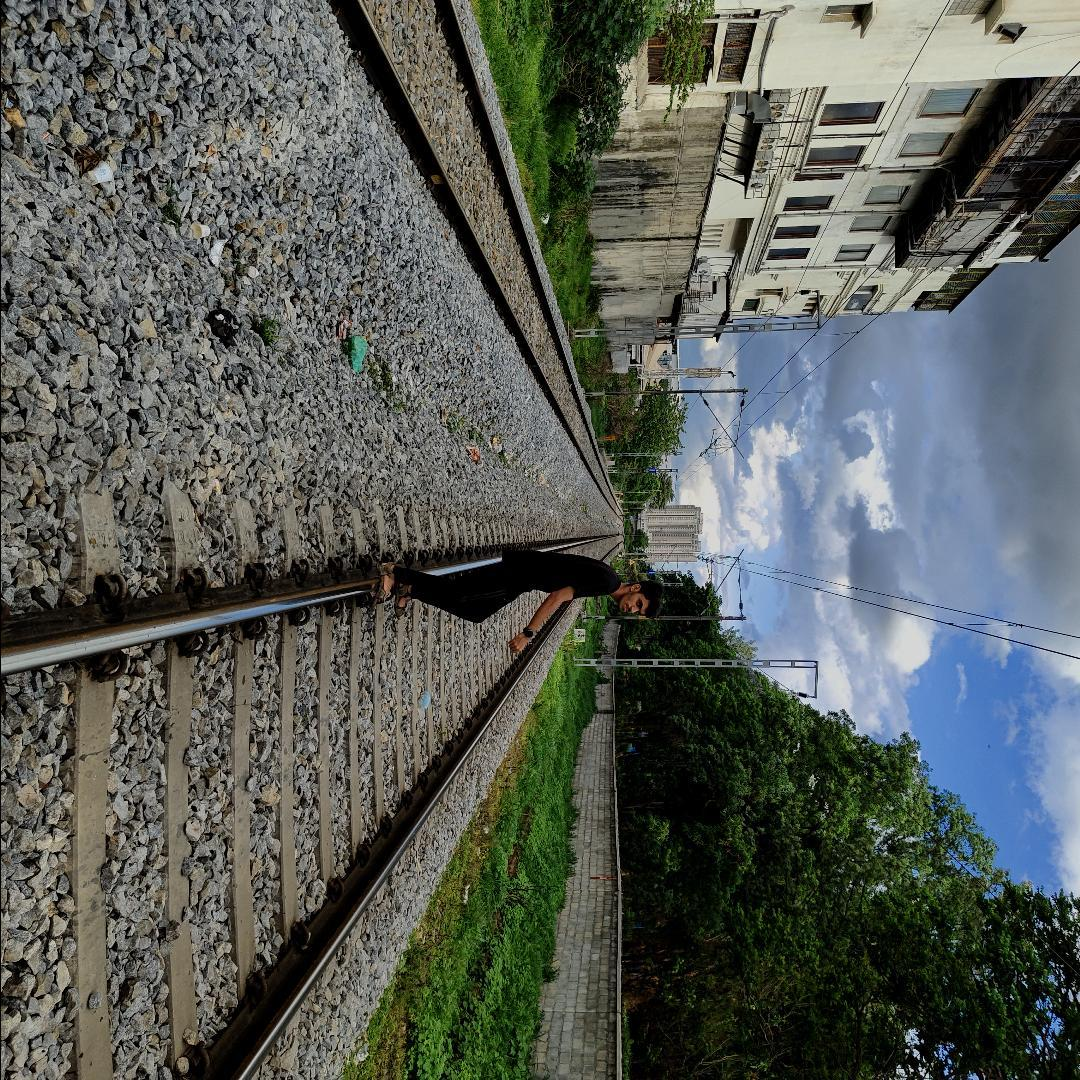standing: (356, 537, 666, 665)
